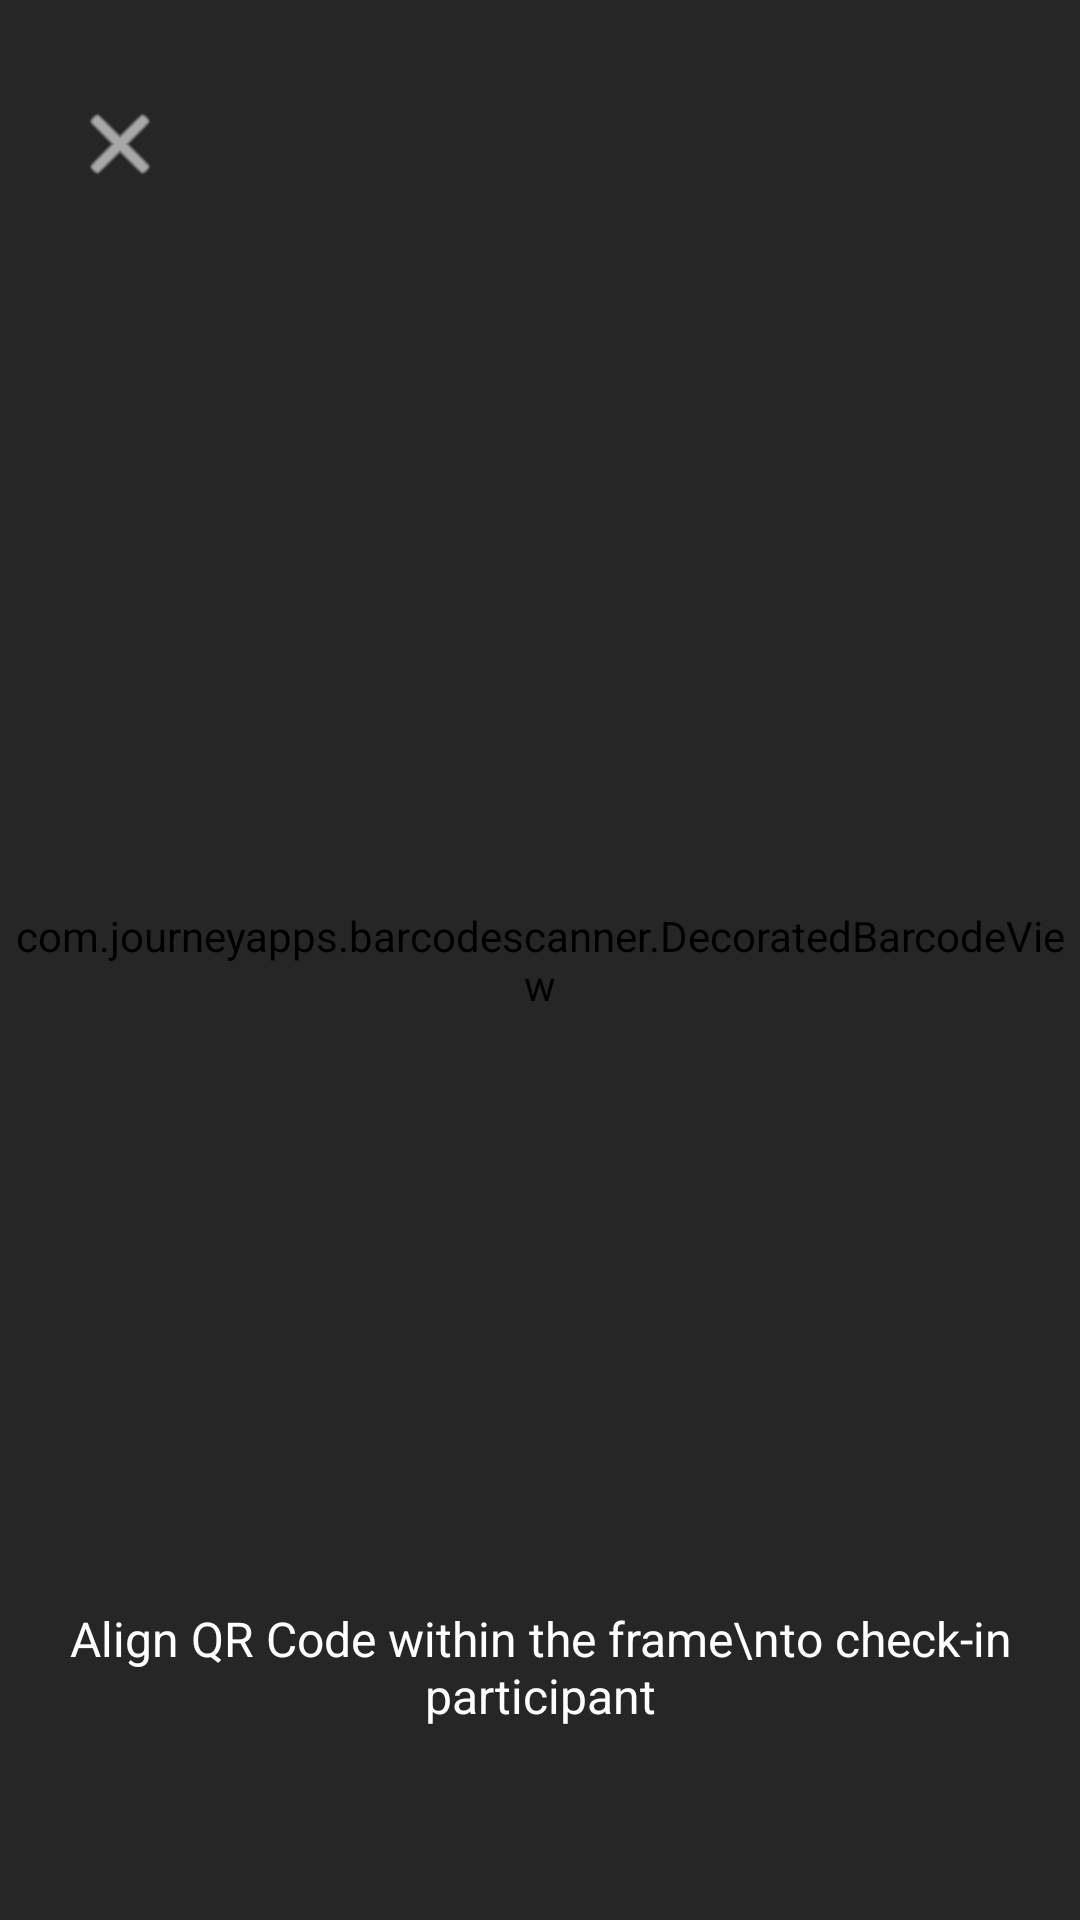

Named icons in this screenshot (1080*1920) and their centers, (x,y):
close clear cancel: (120,144)
